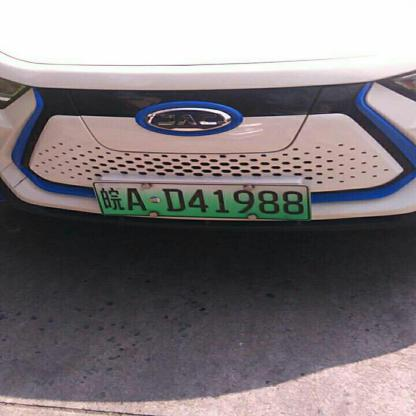lp: (94, 181, 308, 220)
